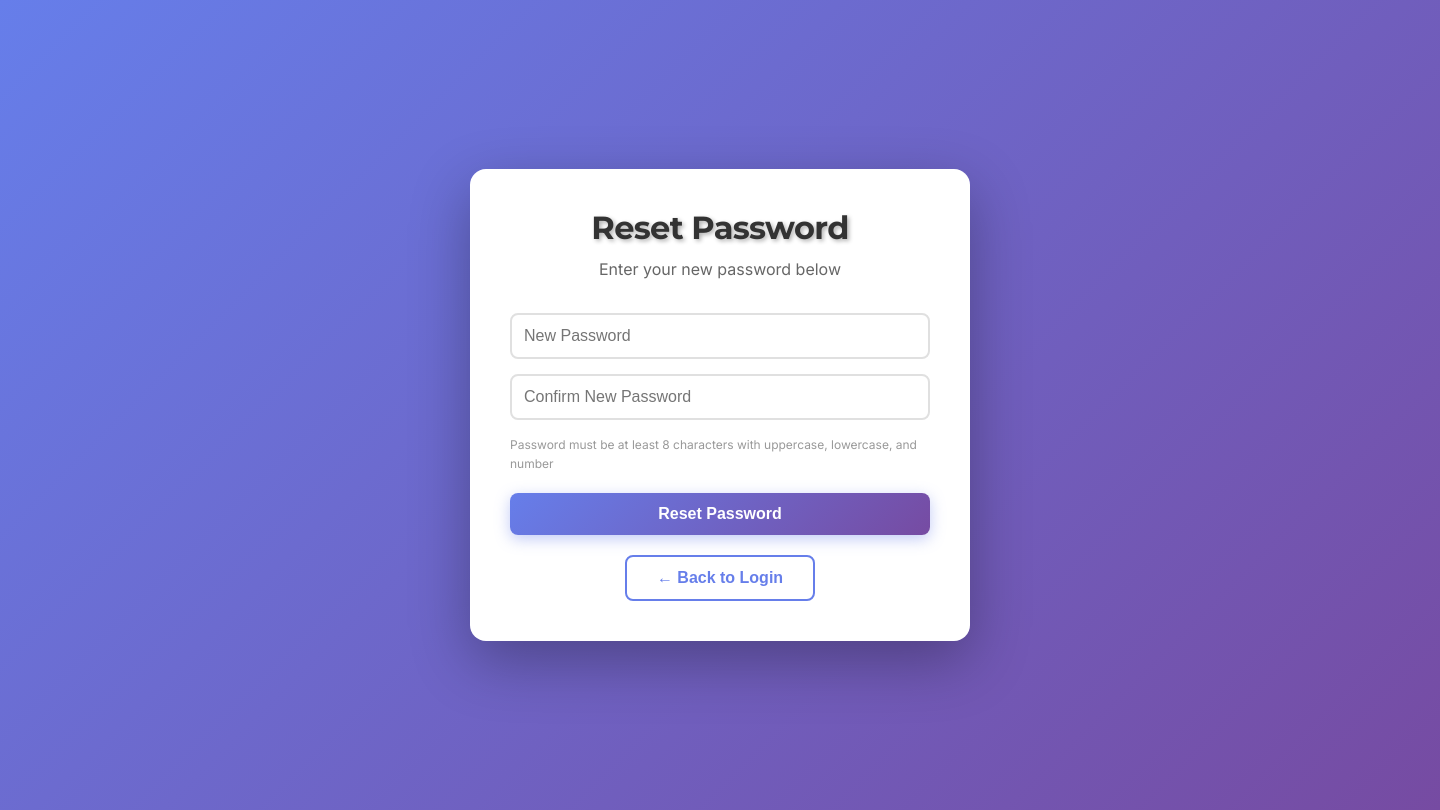
Test: ResetPassword Page › shows error message on failure
Type "Password123" into the password field with placeholder "New Password".
click(720, 336); type("Password123")  # box [510, 313, 930, 359]
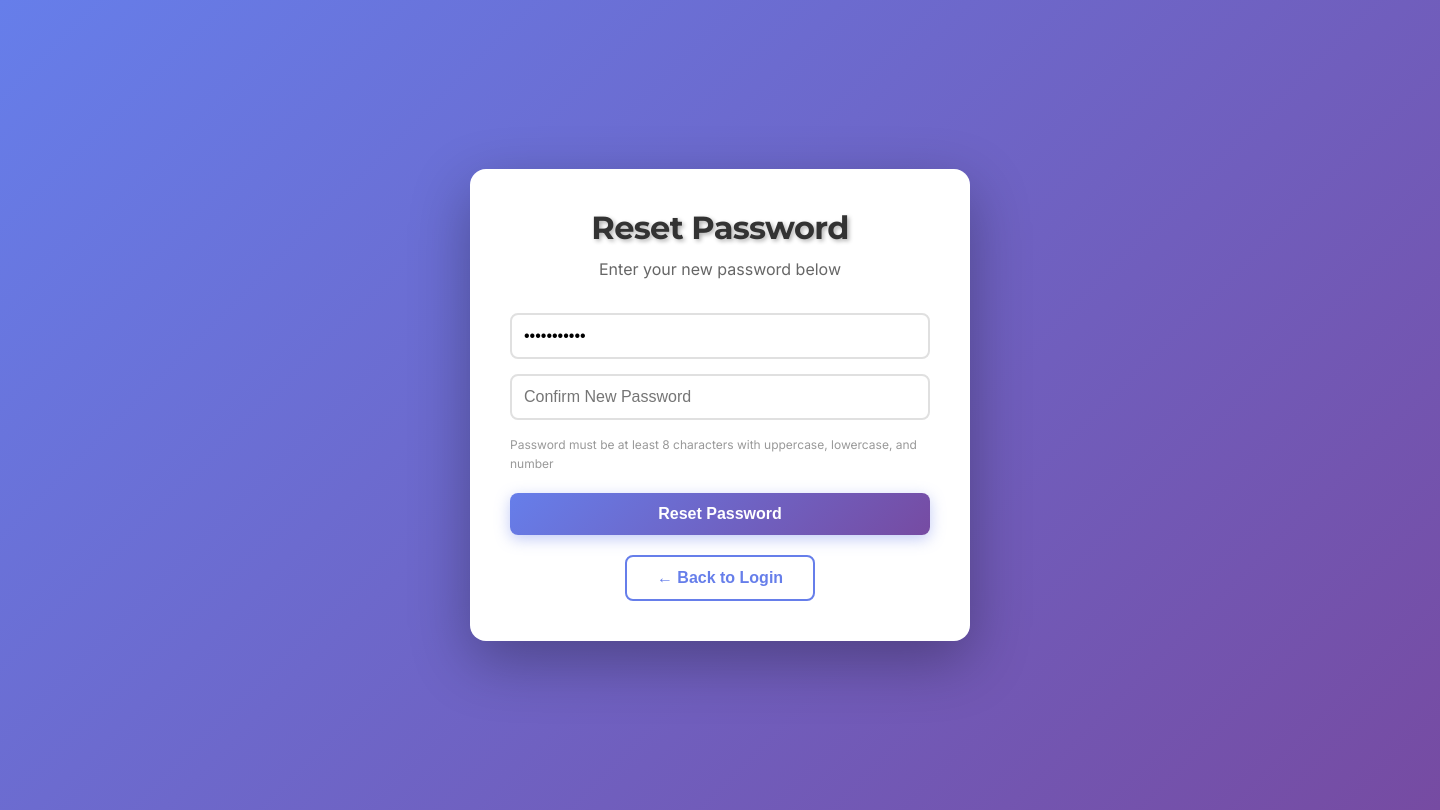
Type "Password123" into the password field with placeholder "Confirm New Password".
click(720, 397); type("Password123")  # box [510, 374, 930, 420]
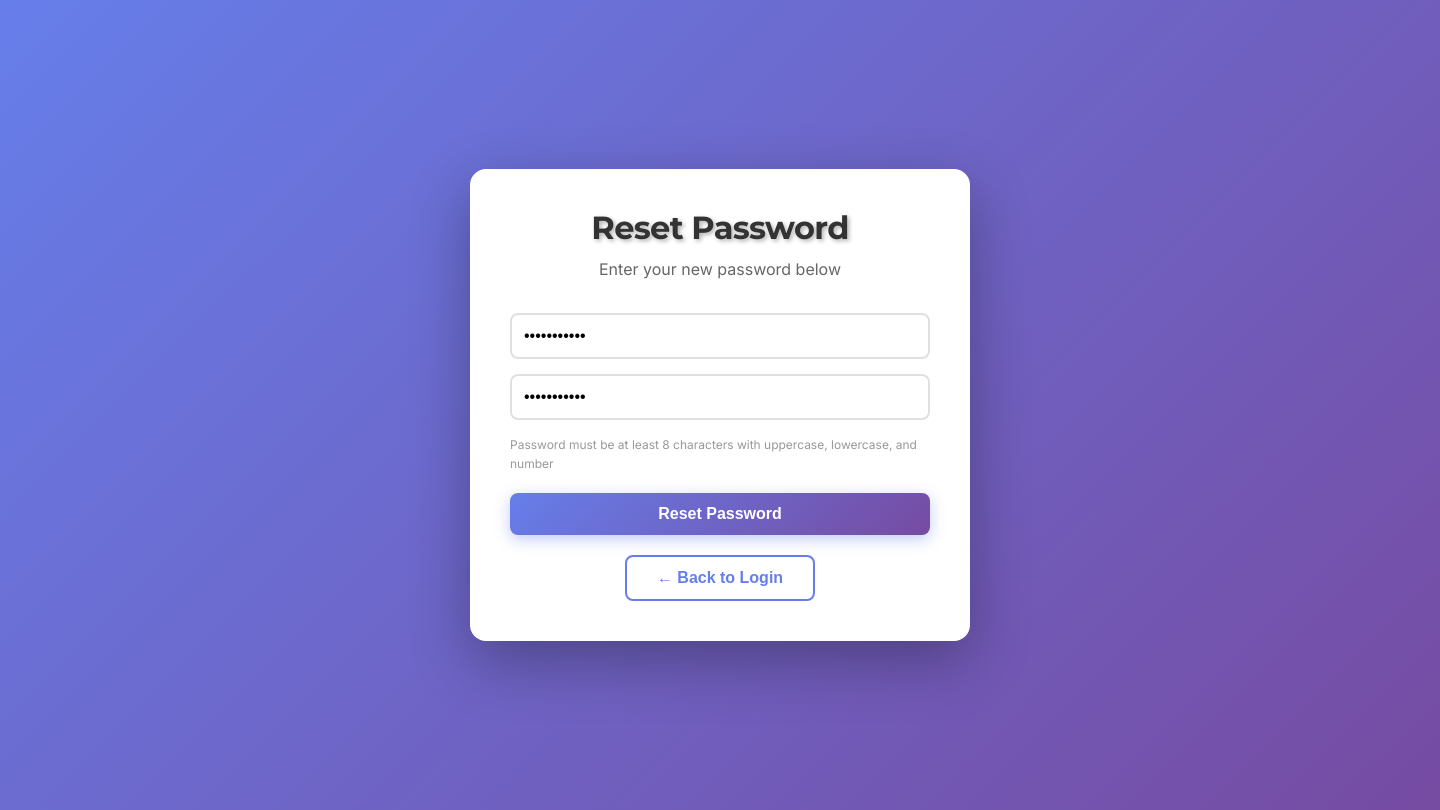
Click the button "Reset Password".
click(720, 514)  # box [510, 493, 930, 535]
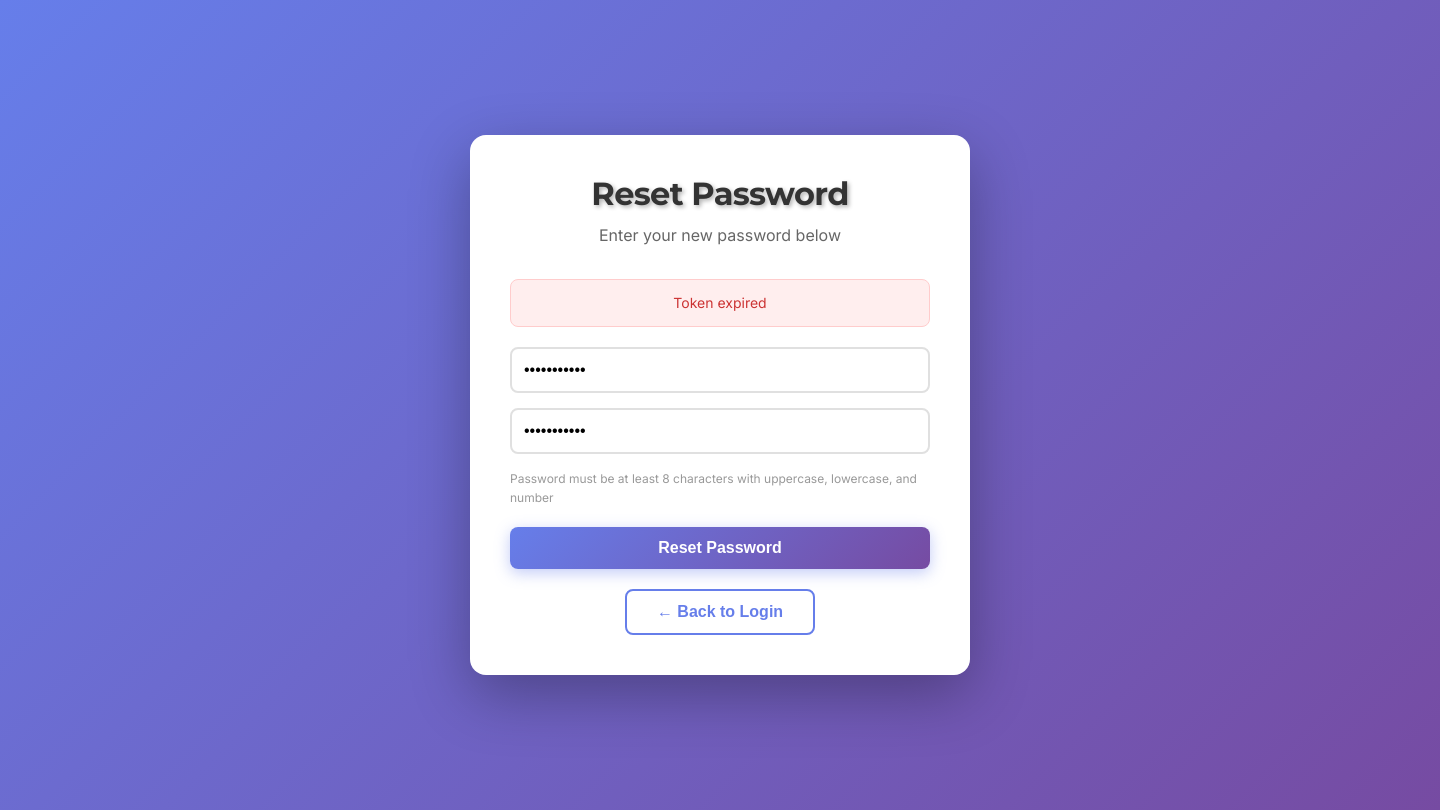
Check: the text "Token expired" is shown, box [510, 279, 930, 327]
